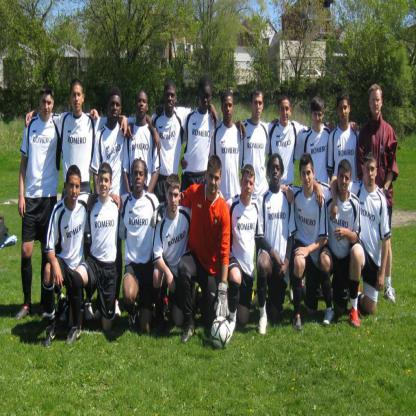face: (68, 175, 82, 204), (134, 161, 146, 193), (109, 96, 122, 123), (208, 168, 221, 194), (243, 172, 255, 200), (42, 93, 54, 120), (339, 168, 351, 194), (365, 161, 377, 186), (302, 164, 314, 189), (168, 187, 180, 212), (99, 173, 111, 198), (271, 158, 282, 185), (253, 93, 264, 119), (72, 86, 83, 112), (371, 90, 382, 115), (223, 97, 234, 122), (200, 86, 211, 111), (137, 93, 148, 118), (339, 101, 350, 124), (281, 101, 291, 125), (166, 88, 176, 112), (313, 108, 323, 129)
